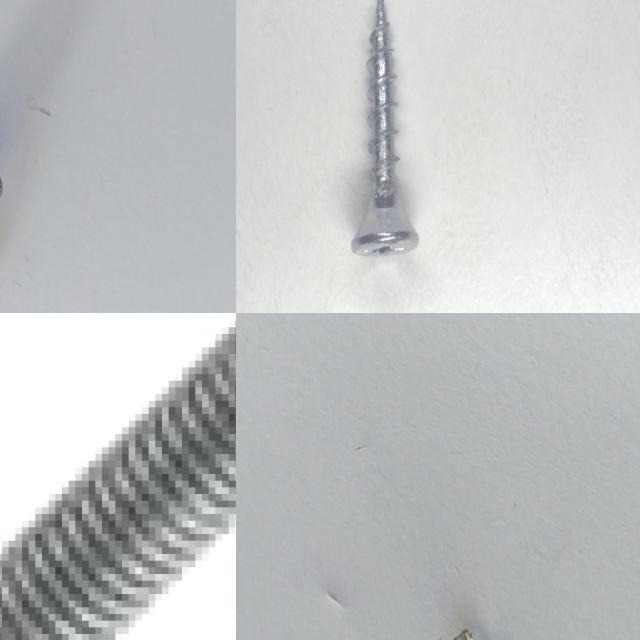Screw: (0, 331, 236, 640), (351, 0, 419, 255)
